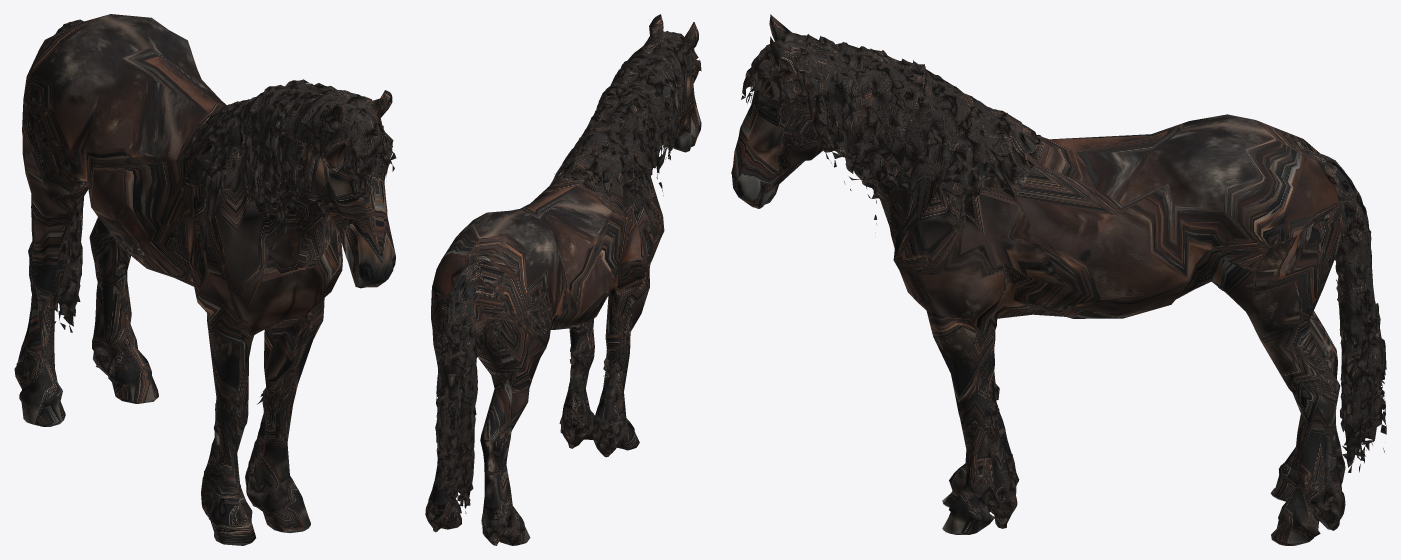
Rendered from draft-horse.glb.
3 views of the same model, side by side, from view 1: azimuth 30°, elevation 25°; view 2: azimuth 150°, elevation 25°; view 3: azimuth 270°, elevation 25° (orthographic). The views are drawn at different scales.
Bounding box in the file's own units: 0.4907 × 1.65 × 2.
1 material, 1 textured.
